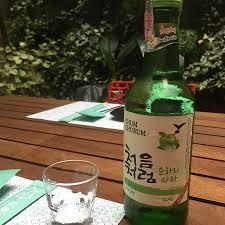soju: (121, 1, 196, 223)
